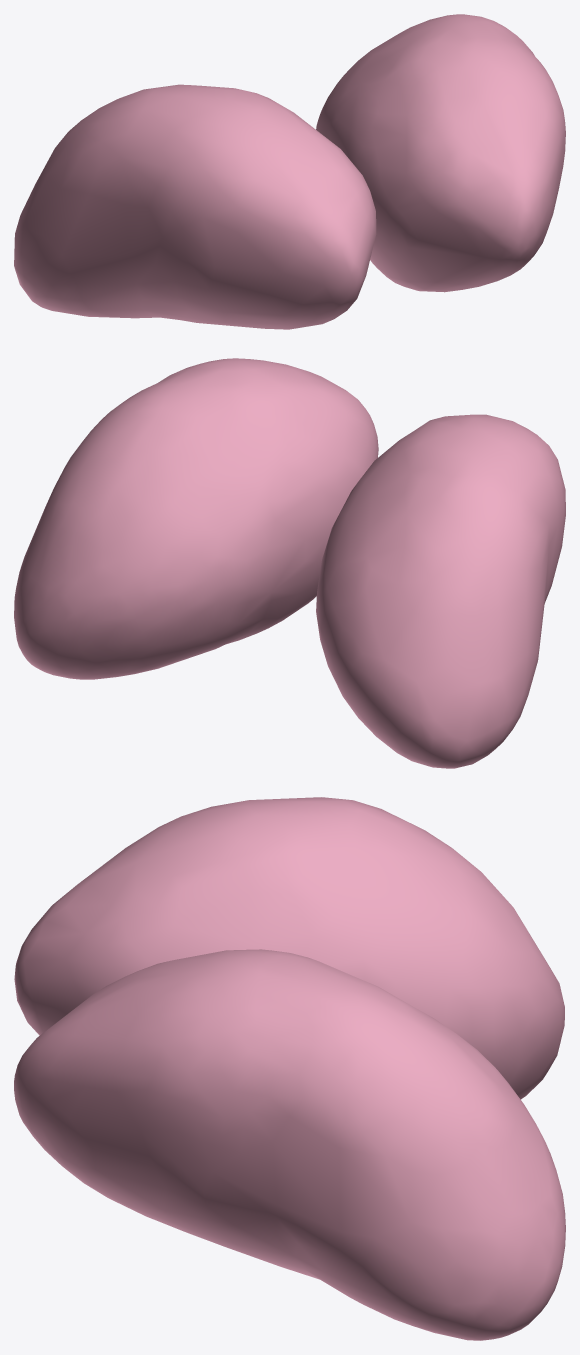
Rendered from thalamus.glb.
3 views of the same model, one above another, from view 1: azimuth 30°, elevation 25°; view 2: azimuth 150°, elevation 25°; view 3: azimuth 270°, elevation 25° (orthographic). The views are drawn at different scales.
Parts seen in each view (by area): view 1: grp1; view 2: grp1; view 3: grp1.
Boxes of the visible parts, x1=… form: grp1: x1=14, y1=14, x2=565, y2=329; grp1: x1=14, y1=358, x2=565, y2=768; grp1: x1=14, y1=797, x2=565, y2=1340.
Bounding box in the file's own units: 0.048 × 0.0237 × 0.0366.
